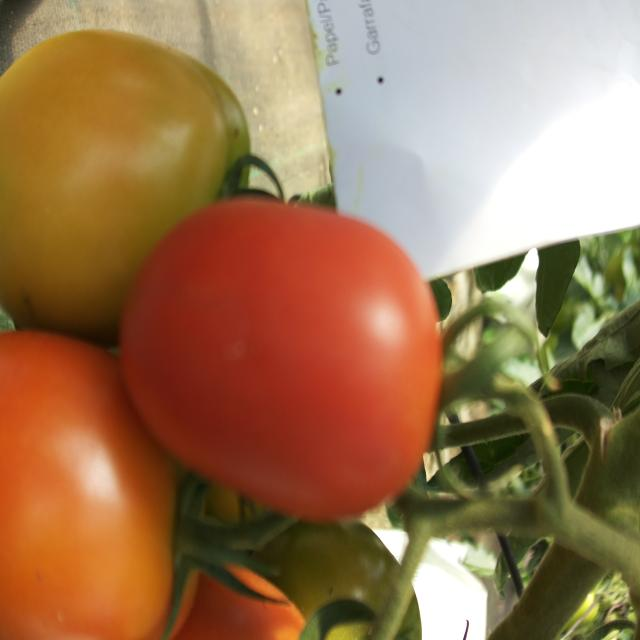kirmizi: (124, 183, 480, 524)
